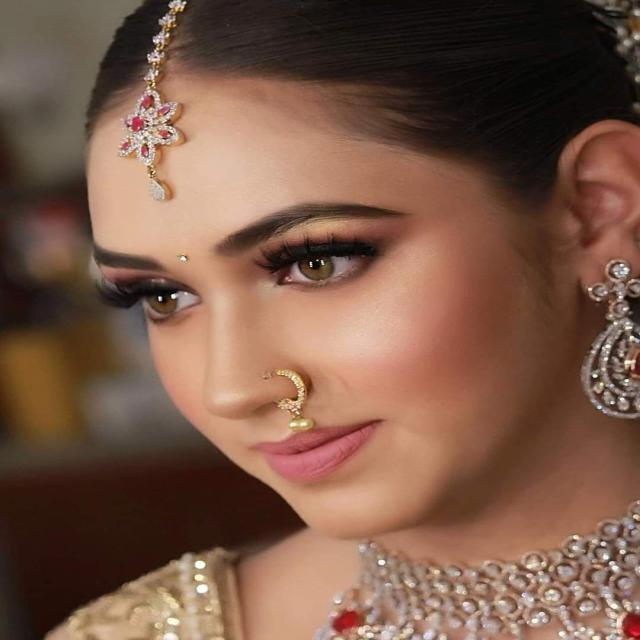Earring: (573, 240, 640, 444)
